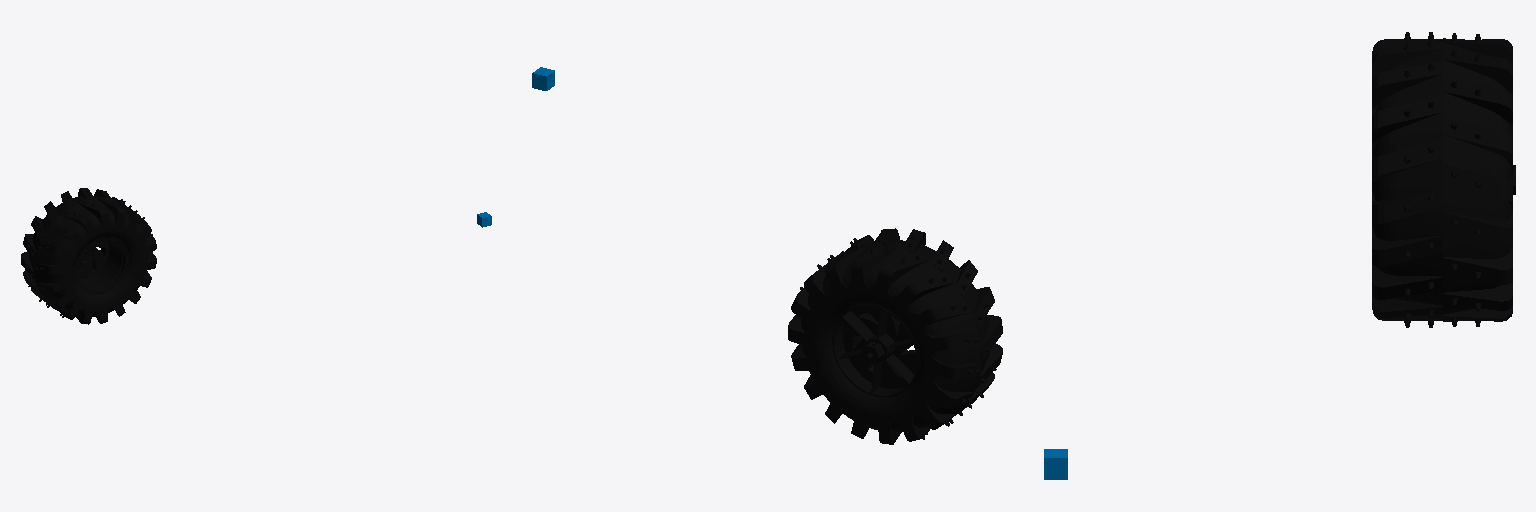
URDF robot description (robot):
<?xml version="1.0" encoding="utf-8"?>
<!-- This URDF was automatically created by SolidWorks to URDF Exporter! Originally created by [author] ([email redacted]) 
     Commit Version: 1.5.1-0-g916b5db  Build Version: 1.5.7152.31018
     For more information, please see http://wiki.ros.org/sw_urdf_exporter -->
<robot
  name="robot">
  <link name="map">
   </link>
  <link name="optical">
  </link>
  <link
    name="base_link_Chasis">
    <inertial>
      <origin
        xyz="-0.0176250593499407 0.000487296918118385 0.0603462602324048"
        rpy="0 0 0" />
      <mass
        value="5.1498884920758" />
      <inertia
        ixx="0.0269958762265313"
        ixy="1.6509880552203E-05"
        ixz="-6.87240827549635E-07"
        iyy="0.0269179615683537"
        iyz="5.19119383098109E-08"
        izz="0.0513021127607407" />
    </inertial>
    <visual>
      <origin
        xyz="0 0 0"
        rpy="0 0 0" />
      <geometry>
        <mesh
          filename="package://ensamble_mobile/meshes/base_link_Chasis.STL" />
      </geometry>
      <material
        name="">
        <color
          rgba="0.752941176470588 0.752941176470588 0.752941176470588 1" />
      </material>
    </visual>
    <collision>
      <origin
        xyz="0 0 0"
        rpy="0 0 0" />
      <geometry>
        <mesh
          filename="package://ensamble_mobile/meshes/base_link_Chasis.STL" />
      </geometry>
    </collision>
  </link>
  <link
    name="rear_right_wheel">
    <inertial>
      <origin
        xyz="5.67991412472879E-07 -2.82678237514822E-06 -0.0308169422322422"
        rpy="0 0 0" />
      <mass
        value="0.622419475189312" />
      <inertia
        ixx="0.00062490705708195"
        ixy="3.27878592513705E-09"
        ixz="-4.02329981568964E-11"
        iyy="0.000624902314874054"
        iyz="-5.1108057156914E-09"
        izz="0.00114905854450842" />
    </inertial>
    <visual>
      <origin
        xyz="0 0 0"
        rpy="0 0 0" />
      <geometry>
        <mesh
          filename="package://ensamble_mobile/meshes/Link_1_1_wheel.STL" />
      </geometry>
      <material
        name="">
        <color
          rgba="0.0752941176470588 0.0752941176470588 0.0752941176470588 1" />
      </material>
    </visual>
    <collision>
      <origin
        xyz="0 0 0"
        rpy="0 0 0" />
      <geometry>
        <mesh
          filename="package://ensamble_mobile/meshes/Link_1_1_wheel.STL" />
      </geometry>
    </collision>
  </link>
    <joint name="dummy_joint" type="fixed">
     <parent link="map"/>
     <child link="base_link_Chasis"/>
   </joint>








  <link name="rgbd_cam">
    <inertial>
      <origin xyz="0.221 0.0 0.045" rpy="0.0 0.0 0.0"/>
      <mass value="0.1"/>
      <inertia ixx="0.0" ixy="0.0" ixz="0.0" iyy="0.0" iyz="0.0" izz="0.0"/>
    </inertial>
    <visual>
      <origin xyz="0.0 0.0 0.0" rpy="0.0 0.0 0.0"/>
      <geometry>
        <box size="0.01 0.01 0.01"/>
      </geometry>
    </visual>
  </link>

  <joint name="rgbd_link" type="fixed">
    <parent link="base_link_Chasis"/>
    <child link="rgbd_cam"/>
    <origin xyz="0.221 0.0 0.045" rpy="0.0 0.0 0.0"/>
  </joint>
  <joint name="optical_joint" type="fixed">
    <parent link="rgbd_cam"/>
    <child link="optical"/>
    <origin xyz="0.0 0.0 0.0" rpy="-1.5708 0.0 -1.5708"/>   
  </joint>






  <joint
    name="joint_rear_right"
    type="continuous">
    <origin
      xyz="-0.12 -0.19478 0.0195"
      rpy="1.5708 0 0" />
    <parent
      link="base_link_Chasis" />
    <child
      link="rear_right_wheel" />
    <axis
      xyz="0 0 -1" />
    <!--<limit effort="10000" velocity="1000"/>-->
    <joint_properties damping="0.7"/>
  </joint>
  <link
    name="rear_left_wheel">
    <inertial>
      <origin
        xyz="2.7380927147963E-06 -9.03416358916109E-07 -0.0321210915173869"
        rpy="0 0 0" />
      <mass
        value="0.622419475189309" />
      <inertia
        ixx="0.00062490065579211"
        ixy="3.60794637909731E-10"
        ixz="4.42299708576457E-09"
        iyy="0.000624908716163889"
        iyz="-2.5610643382685E-09"
        izz="0.00114905854450842" />
    </inertial>
    <visual>
      <origin
        xyz="0 0 0"
        rpy="0 0 0" />
      <geometry>
        <mesh
          filename="package://ensamble_mobile/meshes/Link_1_2_wheel.STL" />
      </geometry>
      <material
        name="">
        <color
          rgba="0.0752941176470588 0.0752941176470588 0.0752941176470588 1" />
      </material>
    </visual>
    <collision>
      <origin
        xyz="0 0 0"
        rpy="0 0 0" />
      <geometry>
        <mesh
          filename="package://ensamble_mobile/meshes/Link_1_2_wheel.STL" />
      </geometry>
    </collision>
  </link>
  <joint
    name="joint_rear_left"
    type="continuous">
    <origin
      xyz="-0.12 0.19608 0.0195"
      rpy="-1.5708 0 0" />
    <parent
      link="base_link_Chasis" />
    <child
      link="rear_left_wheel" />
    <axis
      xyz="0 0 1" />
    <!--<limit effort="10000" velocity="1000"/>-->
    <joint_properties damping="0.7"/>
  </joint>
  <link
    name="front_right_wheel">
    <inertial>
      <origin
        xyz="2.45343850319157E-06 -1.51457992347837E-06 -0.0308169422322417"
        rpy="0 0 0" />
      <mass
        value="0.622419475189309" />
      <inertia
        ixx="0.000624901253478588"
        ixy="2.14254962065621E-09"
        ixz="3.7073277047334E-09"
        iyy="0.00062490811847741"
        iyz="-3.51819202576334E-09"
        izz="0.00114905854450842" />
    </inertial>
    <visual>
      <origin
        xyz="0 0 0"
        rpy="0 0 0" />
      <geometry>
        <mesh
          filename="package://ensamble_mobile/meshes/Link_1_3_wheel.STL" />
      </geometry>
      <material
        name="">
        <color
          rgba="0.0752941176470588 0.0752941176470588 0.0752941176470588 1" />
      </material>
    </visual>
    <collision>
      <origin
        xyz="0 0 0"
        rpy="0 0 0" />
      <geometry>
        <mesh
          filename="package://ensamble_mobile/meshes/Link_1_3_wheel.STL" />
      </geometry>
    </collision>
  </link>
  <joint
    name="joint_front_right"
    type="continuous">
    <origin
      xyz="0.08 -0.19478 0.0195"
      rpy="1.5708 0 0" />
    <parent
      link="base_link_Chasis" />
    <child
      link="front_right_wheel" />
    <axis
      xyz="0 0 -1" />
    <!--<limit effort="10000" velocity="1000"/>-->
    <joint_properties damping="0.7"/>
  </joint>
  <link
    name="front_left_wheel">
    <inertial>
      <origin
        xyz="6.88887376976144E-07 2.79977624487171E-06 -0.0321210915173852"
        rpy="0 0 0" />
      <mass
        value="0.622419475189309" />
      <inertia
        ixx="0.000624908723580364"
        ixy="2.65213544825715E-10"
        ixz="2.21122175396398E-09"
        iyy="0.000624900648375636"
        iyz="4.60786850214148E-09"
        izz="0.00114905854450842" />
    </inertial>
    <visual>
      <origin
        xyz="0 0 0"
        rpy="0 0 0" />
      <geometry>
        <mesh
          filename="package://ensamble_mobile/meshes/Link_1_4_wheel.STL" />
      </geometry>
      <material
        name="">
        <color
          rgba="0.0752941176470588 0.0752941176470588 0.0752941176470588 1" />
      </material>
    </visual>
    <collision>
      <origin
        xyz="0 0 0"
        rpy="0 0 0" />
      <geometry>
        <mesh
          filename="package://ensamble_mobile/meshes/Link_1_4_wheel.STL" />
      </geometry>
    </collision>
  </link>
  <joint
    name="joint_front_left"
    type="continuous">
    <origin
      xyz="0.08 0.19608 0.0195"
      rpy="-1.5708 0 0" />
    <parent
      link="base_link_Chasis" />
    <child
      link="front_left_wheel" />
    <axis
      xyz="0 0 1" />
    <!--<limit effort="10000" velocity="1000"/>-->
    <joint_properties damping="0.7"/>
  </joint>
  
  <transmission name="transmission_rear_right">
    <type>transmission_interface/SimpleTransmission</type>
    <actuator name="motor_rear_right">
      <hardwareInterface>hardware_interface/EffortJointInterface</hardwareInterface>
      <mechanicalReduction>75</mechanicalReduction>
    </actuator>
    <joint name="joint_rear_right">
      <hardwareInterface>hardware_interface/VelocityJointInterface</hardwareInterface>
    </joint>
  </transmission>
  <transmission name="transmission_rear_left">
    <type>transmission_interface/SimpleTransmission</type>
    <actuator name="motor_rear_left">
      <hardwareInterface>hardware_interface/EffortJointInterface</hardwareInterface>
      <mechanicalReduction>75</mechanicalReduction>
    </actuator>
    <joint name="joint_rear_left">
      <hardwareInterface>hardware_interface/VelocityJointInterface</hardwareInterface>
    </joint>
  </transmission>
  <transmission name="transmission_front_right">
    <type>transmission_interface/SimpleTransmission</type>
    <actuator name="motor_front_right">
      <hardwareInterface>hardware_interface/EffortJointInterface</hardwareInterface>
      <mechanicalReduction>75</mechanicalReduction>
    </actuator>
    <joint name="joint_front_right">
      <hardwareInterface>hardware_interface/VelocityJointInterface</hardwareInterface>
    </joint>
  </transmission>
  <transmission name="transmission_front_left">
    <type>transmission_interface/SimpleTransmission</type>
    <actuator name="motor_front_left">
      <hardwareInterface>hardware_interface/EffortJointInterface</hardwareInterface>
      <mechanicalReduction>75</mechanicalReduction>
    </actuator>
    <joint name="joint_front_left">
      <hardwareInterface>hardware_interface/VelocityJointInterface</hardwareInterface>
    </joint>
  </transmission>

  <gazebo reference="base_link_Chasis">
    <material>Gazebo/Orange</material>
  </gazebo>
  <gazebo reference="rear_right_wheel">
    <material>Gazebo/Black</material>
  </gazebo>
  <gazebo reference="rear_left_wheel">
    <material>Gazebo/Black</material>
  </gazebo>
  <gazebo reference="front_right_wheel">
    <material>Gazebo/Black</material>
  </gazebo>
  <gazebo reference="front_left_wheel">
    <material>Gazebo/Black</material>
  </gazebo>
  <gazebo reference="rgbd_cam">
    <material>Gazebo/Red</material>
  </gazebo>

  <gazebo>
    <plugin name="gazebo_ros_control" filename="libgazebo_ros_control.so">
      <robotNamespace>/robot</robotNamespace>
      <robotSimType>gazebo_ros_control/DefaultRobotHWSim</robotSimType>
    </plugin>
  </gazebo>

  <gazebo reference="rgbd_cam">
    <sensor type="depth" name="camera">  
      <pose>0.0 0.0 0.0 1.0 0.0 0.0</pose>     
      <always_on>true</always_on>
      <visualize>true</visualize>             
      <camera>
          <horizontal_fov>1.047</horizontal_fov>
          <image>
              <width>640</width>
              <height>480</height>
              <format>R8G8B8</format>
          </image>
          <depth_camera>
          </depth_camera>
          <clip>
              <near>0.1</near>
              <far>3</far>
          </clip>
      </camera>
      <plugin name="camera_controller" filename="libgazebo_ros_openni_kinect.so">
          <baseline>0.2</baseline>
          <alwaysOn>true</alwaysOn>
              <updateRate>10.0</updateRate>
              <cameraName>camera</cameraName>
              <frameName>optical</frameName>                   
          <imageTopicName>rgb/image_raw</imageTopicName>
          <depthImageTopicName>depth/image_raw</depthImageTopicName>
          <pointCloudTopicName>depth/points</pointCloudTopicName>
          <cameraInfoTopicName>rgb/camera_info</cameraInfoTopicName>              
          <depthImageCameraInfoTopicName>depth/camera_info</depthImageCameraInfoTopicName>            
          <pointCloudCutoff>0.4</pointCloudCutoff>                
              <hackBaseline>0.07</hackBaseline>
              <distortionK1>0.0</distortionK1>
              <distortionK2>0.0</distortionK2>
              <distortionK3>0.0</distortionK3>
              <distortionT1>0.0</distortionT1>
              <distortionT2>0.0</distortionT2>
          <CxPrime>0.0</CxPrime>
          <Cx>0.0</Cx>
          <Cy>0.0</Cy>
          <Or>0.0</Or>
          <Op>1.5708</Op>
          <Oy>0.0</Oy>
          <focalLength>0.0</focalLength>
          </plugin>
    </sensor>
  </gazebo>


  
</robot>

--- What the picture shows (computed from the rendered views, not written in the file) ---
The picture shows the robot from 3 angles, left to right: view 1: azimuth 30°, elevation 25°; view 2: azimuth 150°, elevation 25°; view 3: azimuth 270°, elevation 25°; orthographic projection.
Model robot with 8 links and 7 joints (4 continuous, 3 fixed), rooted at map, posed all joints at 0.
Links seen in each view (by area): view 1: rear_left_wheel; view 2: rear_left_wheel; view 3: rear_left_wheel, rgbd_cam.
Link boxes in pixels (x1=…): rear_left_wheel: x1=21, y1=188, x2=156, y2=324; rear_left_wheel: x1=788, y1=228, x2=1002, y2=444; rear_left_wheel: x1=1372, y1=32, x2=1515, y2=327; rgbd_cam: x1=1044, y1=449, x2=1067, y2=479.
Size in the robot's own frame: 0.4091 by 0.2008 by 0.1262 metres.
1 mesh visuals loaded from 5 distinct referenced files (1 binary STL); not drawn: 4 (reference not matched to a file when rendering).